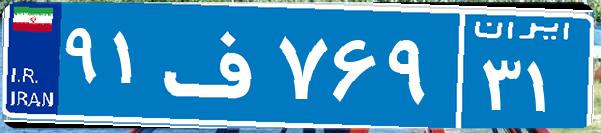1: (110, 28, 158, 105), (525, 38, 570, 115)
3: (475, 38, 525, 113)
6: (330, 28, 385, 110)
7: (273, 28, 330, 110)
9: (385, 28, 445, 110), (57, 26, 110, 107)
ف: (158, 15, 273, 115)
